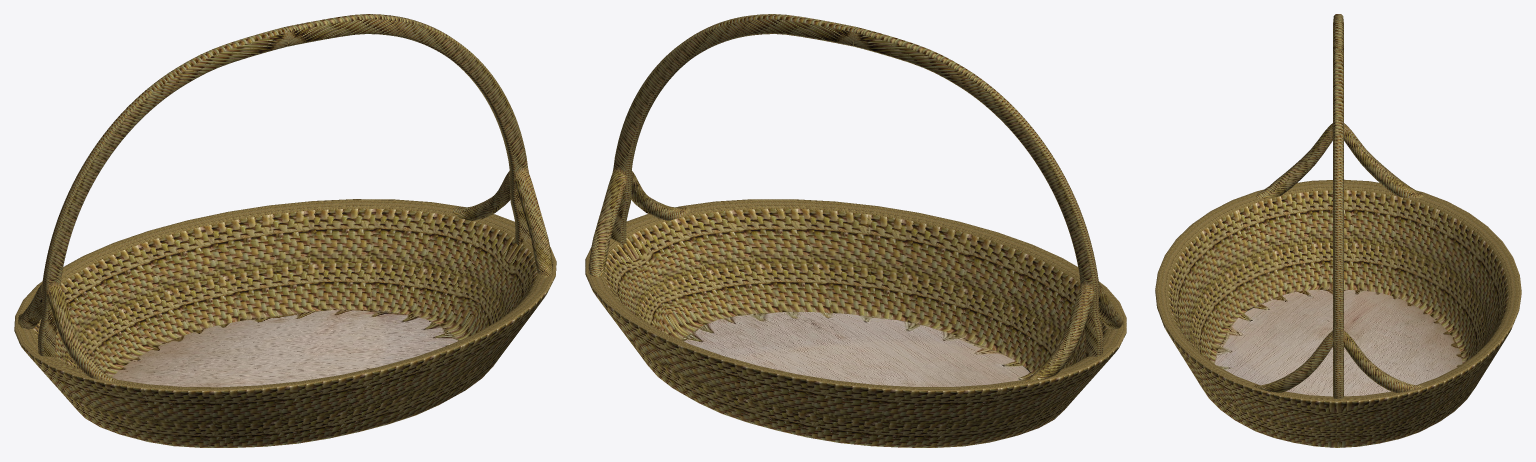
Rendered from OVAL FRUIT BASKET.fbx.
The picture shows the model from 3 angles, left to right: view 1: azimuth 30°, elevation 25°; view 2: azimuth 150°, elevation 25°; view 3: azimuth 270°, elevation 25°; orthographic projection. The views are drawn at different scales.
Visible parts, largest first — view 1: pCylinder3, pCube7; view 2: pCylinder3, pCube7; view 3: pCylinder3, pCube7.
Part boxes in pixels (<box>): pCylinder3: <box>14,199,556,447</box>; pCube7: <box>18,14,552,381</box>; pCylinder3: <box>585,199,1126,447</box>; pCube7: <box>588,14,1123,381</box>; pCylinder3: <box>1155,179,1521,447</box>; pCube7: <box>1253,14,1423,398</box>.
Bounding box in the file's own units: 11.97 × 7.98 × 8.33.
2 materials, 2 textured.
